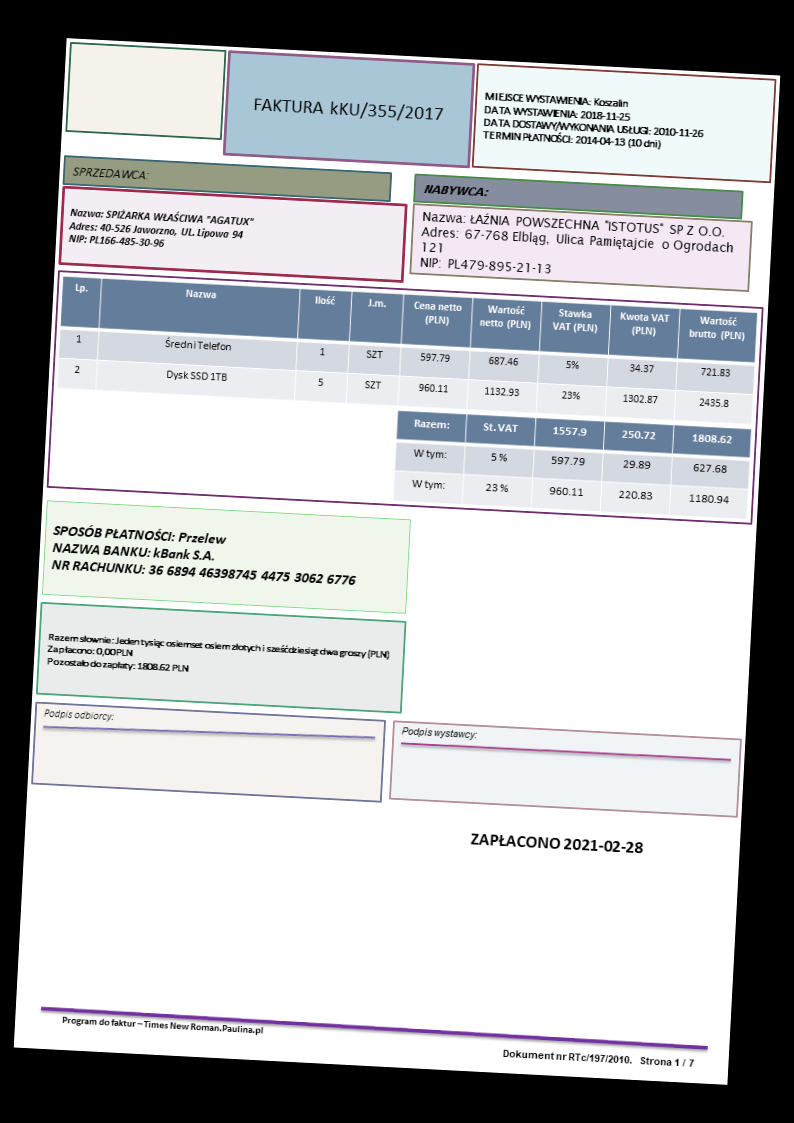Table: (55, 275, 758, 426), (392, 409, 754, 521)
TextBox: (416, 207, 736, 286), (48, 518, 360, 591), (44, 627, 394, 687), (480, 86, 706, 154), (66, 204, 256, 254), (251, 93, 445, 126), (58, 1013, 266, 1038), (501, 1045, 699, 1071), (469, 829, 646, 856), (69, 161, 151, 183), (399, 723, 480, 744), (41, 704, 115, 725), (422, 179, 491, 200)
